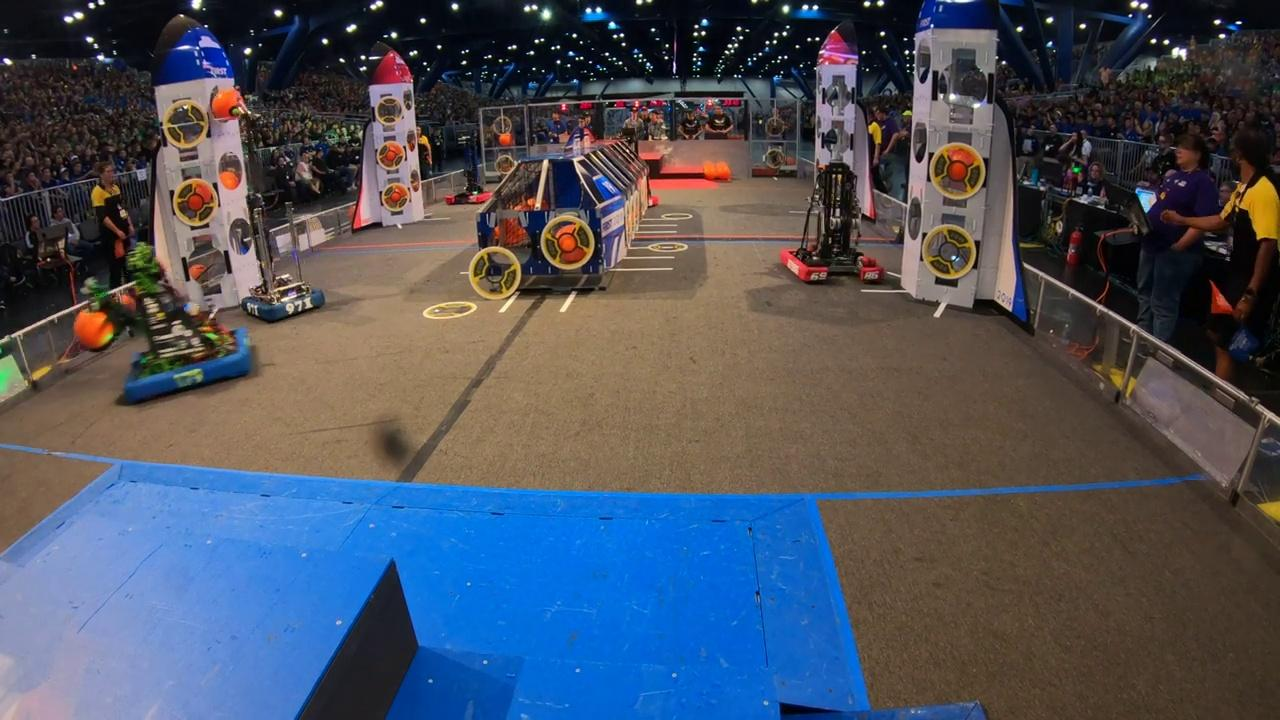robot: (79, 198, 259, 409), (776, 157, 888, 289), (229, 197, 327, 327), (441, 139, 495, 206)
